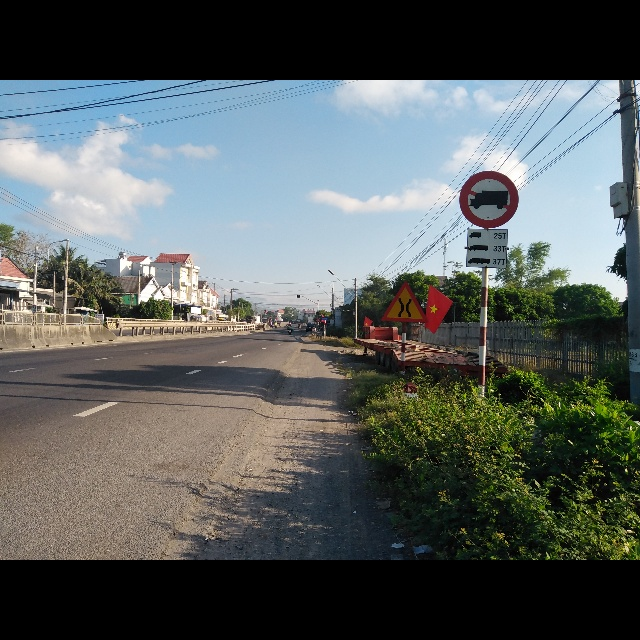Cấm xe tải: (460, 169, 521, 228)
Cầu hẹp: (381, 282, 427, 325)
